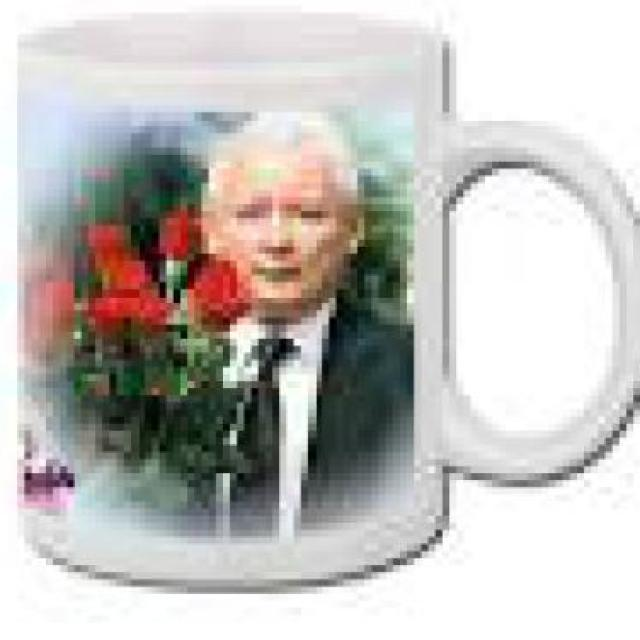cup: (4, 0, 640, 614)
